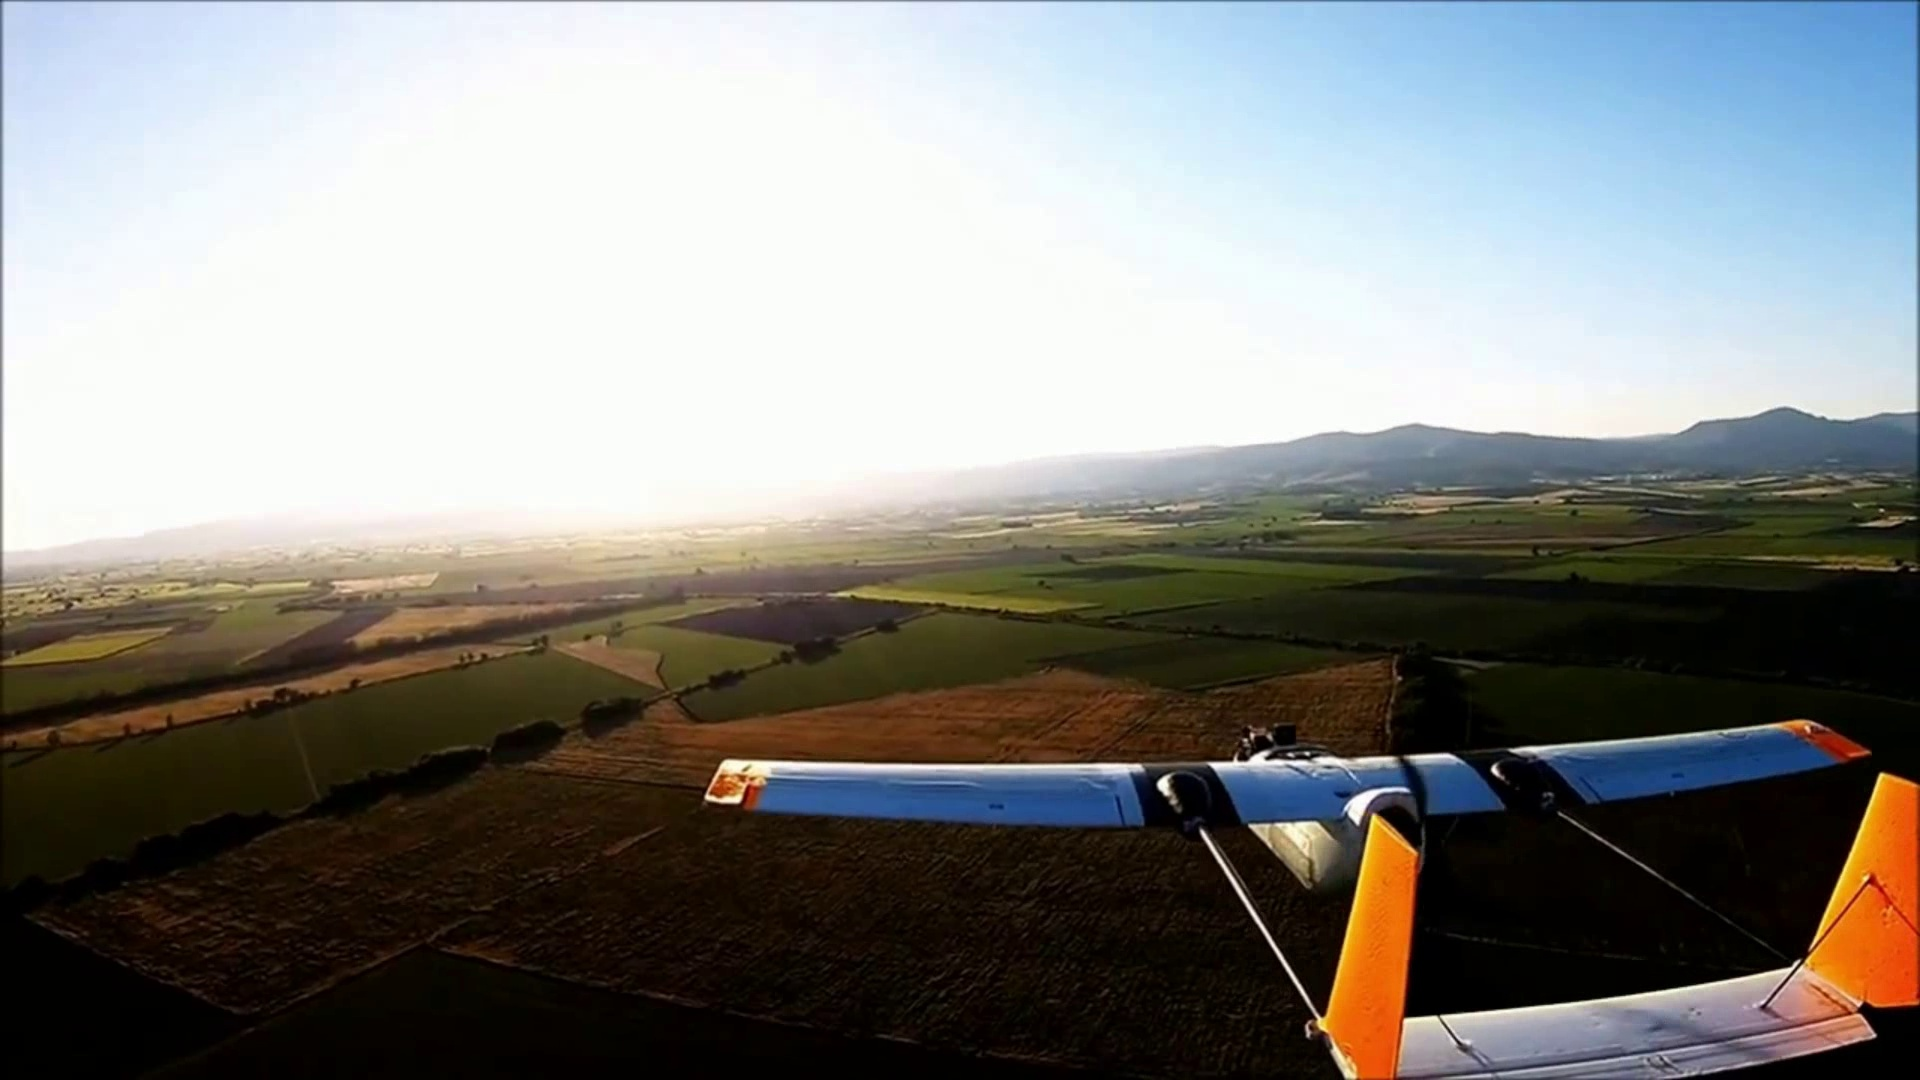airplane: (707, 717, 1916, 1063)
